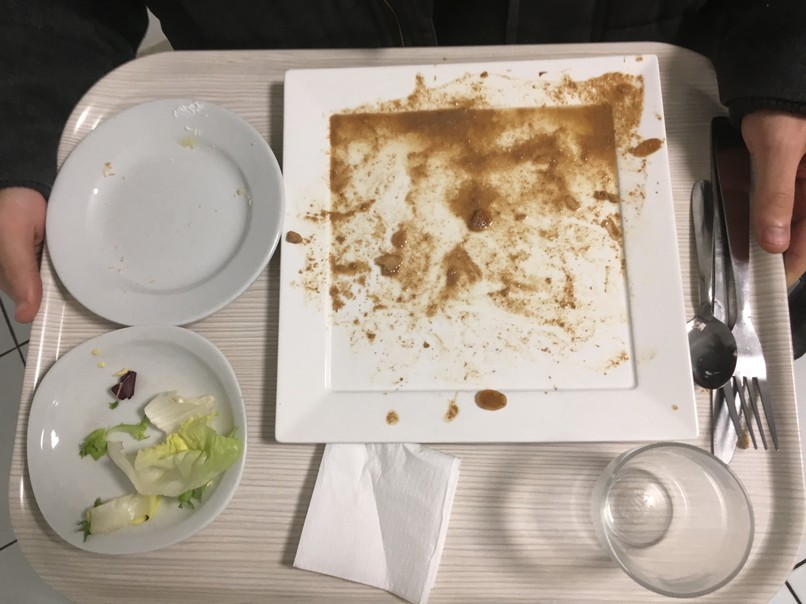cup: (591, 431, 755, 604)
cutlery: (669, 91, 788, 455)
orga: (87, 377, 238, 539)
trash: (304, 421, 461, 604)
